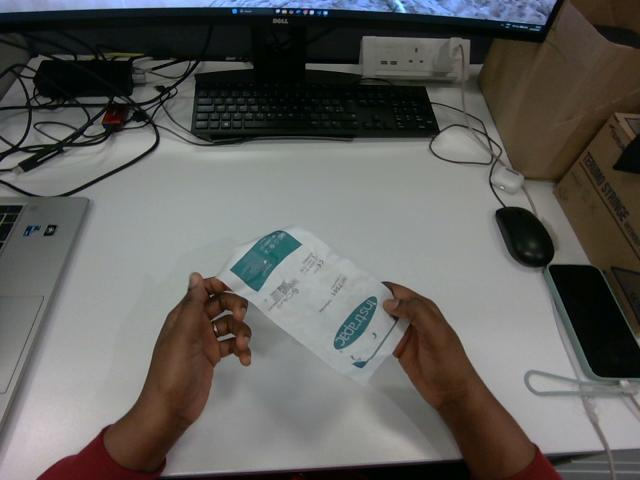gallipot: (218, 227, 407, 383)
